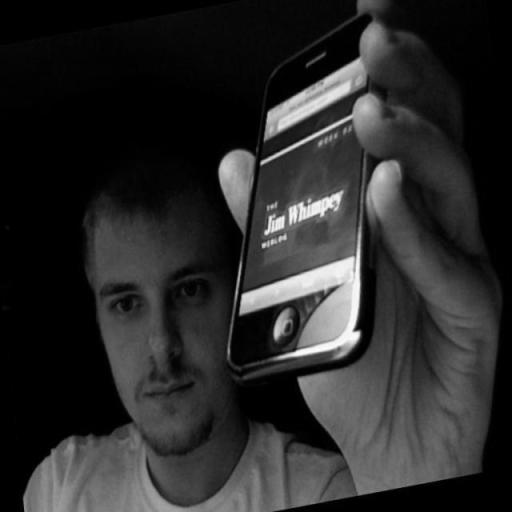phone: (225, 11, 374, 379)
